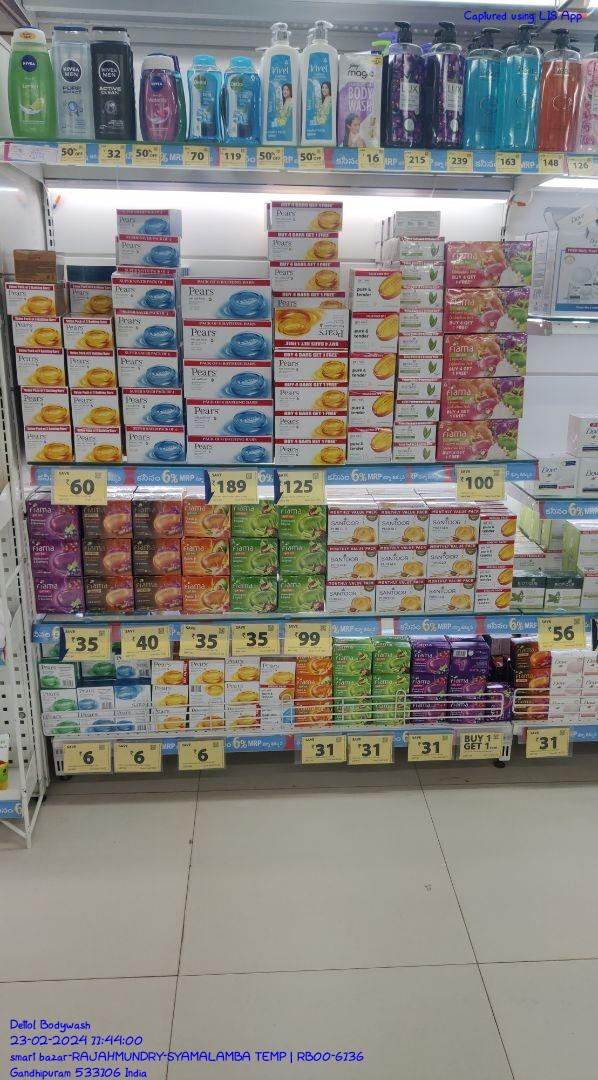Nivea_Shower_Gel_Lemon_and_Oil_250ML: (10, 26, 55, 141)
Nivea_Shower_Gel_Waterlily_and_Oil_250ML: (140, 49, 177, 144)
Palmolive_Coconut_Joy_Exfoliating_Body_Wash_250ML: (187, 53, 223, 142), (225, 54, 261, 141)
